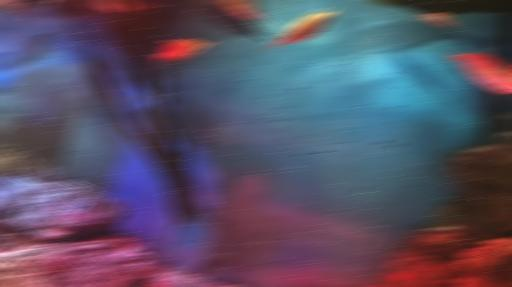Fish: (388, 51, 459, 104), (266, 9, 335, 49), (450, 47, 511, 86), (214, 0, 274, 26), (154, 39, 215, 63), (421, 12, 461, 31), (0, 0, 32, 13), (390, 271, 413, 286), (92, 0, 118, 12), (42, 0, 59, 10)
